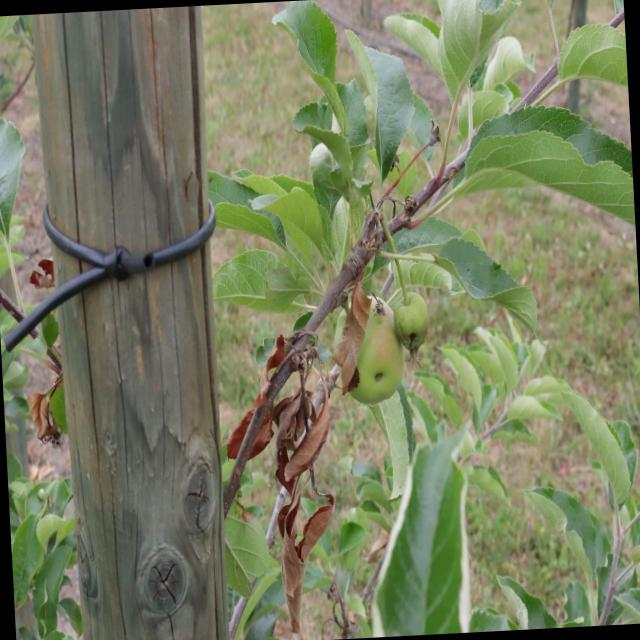-FireBlight-: (224, 348, 346, 632)
